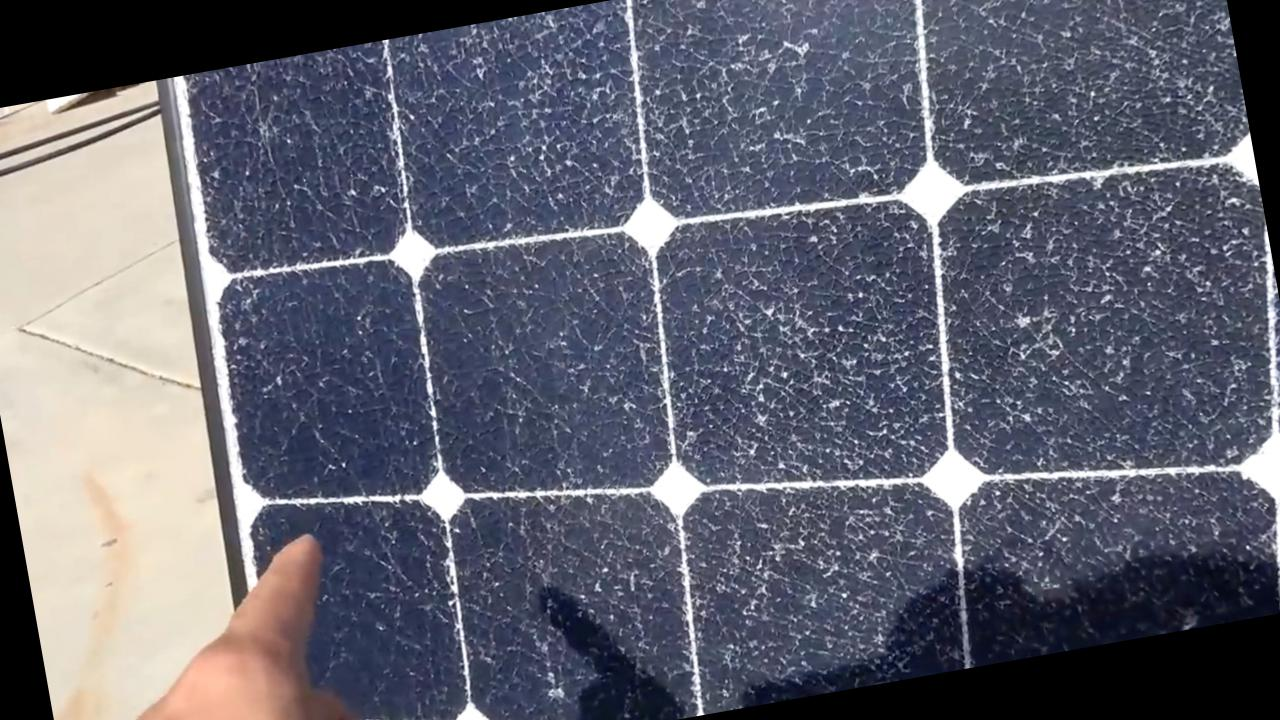Crack: (942, 160, 1272, 502), (682, 216, 944, 500), (425, 241, 675, 520), (649, 0, 927, 231), (923, 0, 1242, 186), (188, 50, 420, 296), (406, 11, 646, 247), (704, 485, 944, 689)
